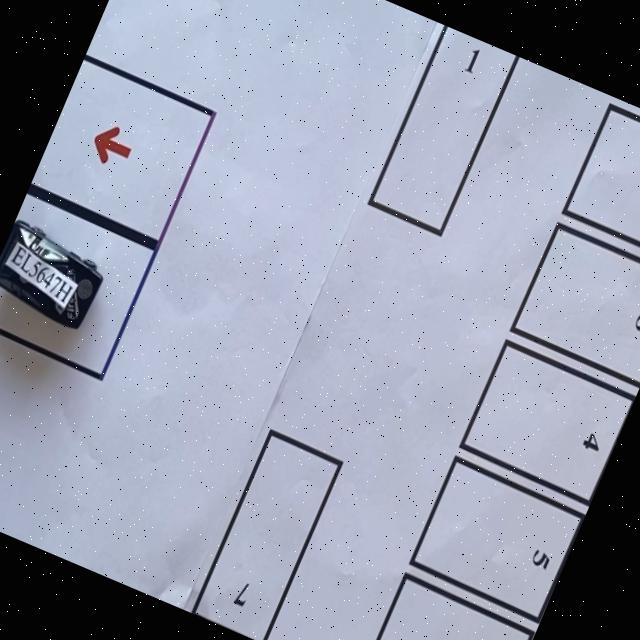car: (0, 210, 118, 344)
